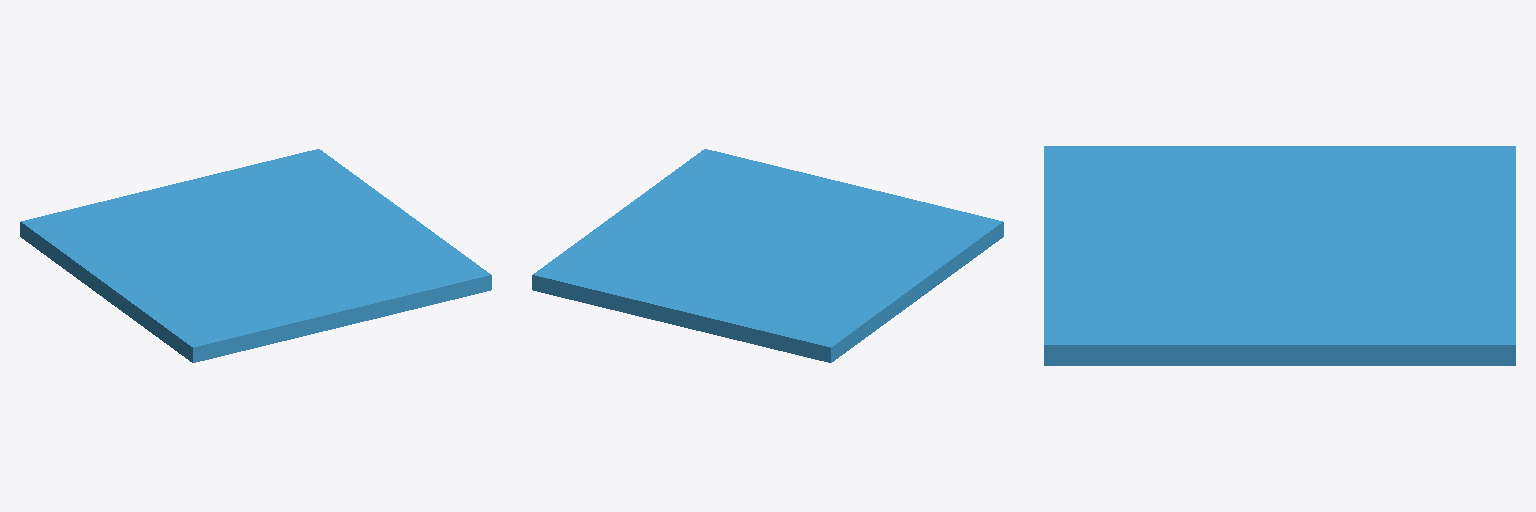
robot.urdf — myworkcell:
<?xml version="1.0" ?>
<!-- =================================================================================== -->
<!-- |    This document was autogenerated by xacro from workcell.xacro                 | -->
<!-- |    EDITING THIS FILE BY HAND IS NOT RECOMMENDED                                 | -->
<!-- =================================================================================== -->
<robot name="myworkcell" xmlns:xacro="http://ros.org/wiki/xacro">
  <!-- measured from model -->
  <!--property name="shoulder_height" value="0.089159" /-->
  <!--property name="shoulder_offset" value="0.13585" /-->
  <!-- shoulder_offset - elbow_offset + wrist_1_length = 0.10915 -->
  <!--property name="upper_arm_length" value="0.42500" /-->
  <!--property name="elbow_offset" value="0.1197" /-->
  <!-- CAD measured -->
  <!--property name="forearm_length" value="0.39225" /-->
  <!--property name="wrist_1_length" value="0.093" /-->
  <!-- CAD measured -->
  <!--property name="wrist_2_length" value="0.09465" /-->
  <!-- In CAD this distance is 0.930, but in the spec it is 0.09465 -->
  <!--property name="wrist_3_length" value="0.0823" /-->
  <!-- manually measured -->

<!-- Create a link name world which describes the most fundamental link in the robot model -->  
<link name="world"/>

<!-- Create a link named table, provide its geometry and collision information -->
  <link name="table">
    <visual>
      <geometry>
        <box size="1.0 1.0 0.05"/>
      </geometry>
    </visual>
    <collision>
      <geometry>
        <box size="1.0 1.0 0.05"/>
      </geometry>
    </collision>
  </link>

<!-- Define a camera frame (used to publish camera information -->
<!--  <link name="camera_frame"/> -->

<!-- Define a base_link for the UR5 robot -->
  <link name="base_link">
    <visual>
      <geometry>
        <mesh filename="file://[local-path]/ros_trial/src/universal_robot/ur_description/meshes/ur5/visual/base.dae"/>
      </geometry>
      <material name="LightGrey">
        <color rgba="0.7 0.7 0.7 1.0"/>
      </material>
    </visual>
    <collision>
      <geometry>
        <mesh filename="file://[local-path]/ros_trial/src/universal_robot/ur_description/meshes/ur5/collision/base.stl"/>
      </geometry>
    </collision>
    <inertial>
      <mass value="4.0"/>
      <origin rpy="0 0 0" xyz="0.0 0.0 0.0"/>
      <inertia ixx="0.00443333156" ixy="0.0" ixz="0.0" iyy="0.00443333156" iyz="0.0" izz="0.0072"/>
    </inertial>
  </link>

<!-- After defining the base link, start defining the joints to the base link and then define each child link -->

  <joint name="shoulder_pan_joint" type="revolute">
    <parent link="base_link"/>
    <child link="shoulder_link"/>
    <origin rpy="0.0 0.0 0.0" xyz="0.0 0.0 0.089159"/>
    <axis xyz="0 0 1"/>
    <limit effort="150.0" lower="-3.14159265359" upper="3.14159265359" velocity="3.15"/>
    <dynamics damping="0.0" friction="0.0"/>
  </joint>
  <link name="shoulder_link">
    <visual>
      <geometry>
        <mesh filename="file://[local-path]/ros_trial/src/universal_robot/ur_description/meshes/ur5/visual/shoulder.dae"/>
      </geometry>
      <material name="LightGrey">
        <color rgba="0.7 0.7 0.7 1.0"/>
      </material>
    </visual>
    <collision>
      <geometry>
        <mesh filename="package://ur_description/meshes/ur5/collision/shoulder.stl"/>
      </geometry>
    </collision>
    <inertial>
      <mass value="3.7"/>
      <origin rpy="0 0 0" xyz="0.0 0.0 0.0"/>
      <inertia ixx="0.010267495893" ixy="0.0" ixz="0.0" iyy="0.010267495893" iyz="0.0" izz="0.00666"/>
    </inertial>
  </link>
  <joint name="shoulder_lift_joint" type="revolute">
    <parent link="shoulder_link"/>
    <child link="upper_arm_link"/>
    <origin rpy="0.0 1.57079632679 0.0" xyz="0.0 0.13585 0.0"/>
    <axis xyz="0 1 0"/>
    <limit effort="150.0" lower="-3.14159265359" upper="3.14159265359" velocity="3.15"/>
    <dynamics damping="0.0" friction="0.0"/>
  </joint>
  <link name="upper_arm_link">
    <visual>
      <geometry>
        <mesh filename="file://[local-path]/ros_trial/src/universal_robot/ur_description/meshes/ur5/visual/upperarm.dae"/>
      </geometry>
      <material name="LightGrey">
        <color rgba="0.7 0.7 0.7 1.0"/>
      </material>
    </visual>
    <collision>
      <geometry>
        <mesh filename="package://ur_description/meshes/ur5/collision/upperarm.stl"/>
      </geometry>
    </collision>
    <inertial>
      <mass value="8.393"/>
      <origin rpy="0 0 0" xyz="0.0 0.0 0.28"/>
      <inertia ixx="0.22689067591" ixy="0.0" ixz="0.0" iyy="0.22689067591" iyz="0.0" izz="0.0151074"/>
    </inertial>
  </link>
  <joint name="elbow_joint" type="revolute">
    <parent link="upper_arm_link"/>
    <child link="forearm_link"/>
    <origin rpy="0.0 0.0 0.0" xyz="0.0 -0.1197 0.425"/>
    <axis xyz="0 1 0"/>
    <limit effort="150.0" lower="-3.14159265359" upper="3.14159265359" velocity="3.15"/>
    <dynamics damping="0.0" friction="0.0"/>
  </joint>
  <link name="forearm_link">
    <visual>
      <geometry>
        <mesh filename="file://[local-path]/ros_trial/src/universal_robot/ur_description/meshes/ur5/visual/forearm.dae"/>
      </geometry>
      <material name="LightGrey">
        <color rgba="0.7 0.7 0.7 1.0"/>
      </material>
    </visual>
    <collision>
      <geometry>
        <mesh filename="package://ur_description/meshes/ur5/collision/forearm.stl"/>
      </geometry>
    </collision>
    <inertial>
      <mass value="2.275"/>
      <origin rpy="0 0 0" xyz="0.0 0.0 0.25"/>
      <inertia ixx="0.049443313556" ixy="0.0" ixz="0.0" iyy="0.049443313556" iyz="0.0" izz="0.004095"/>
    </inertial>
  </link>

 <joint name="wrist_1_joint" type="revolute"> 
<!-- <joint name="wrist_1_joint" type="fixed"> -->
    <parent link="forearm_link"/>
    <child link="wrist_1_link"/>
    <origin rpy="0.0 1.57079632679 0.0" xyz="0.0 0.0 0.39225"/>
    <axis xyz="0 1 0"/>
 <!--   <limit effort="28.0" lower="-3.14159265359" upper="3.14159265359" velocity="3.2"/>  -->
    <limit effort="28.0" lower="-0.75" upper="0.75" velocity="3.2"/>
    <dynamics damping="0.0" friction="0.0"/>
  </joint>
  <link name="wrist_1_link">
    <visual>
      <geometry>
        <mesh filename="file://[local-path]/ros_trial/src/universal_robot/ur_description/meshes/ur5/visual/wrist1.dae"/>
      </geometry>
      <material name="LightGrey">
        <color rgba="0.7 0.7 0.7 1.0"/>
      </material>
    </visual>
    <collision>
      <geometry>
        <mesh filename="package://ur_description/meshes/ur5/collision/wrist1.stl"/>
      </geometry>
    </collision>
    <inertial>
      <mass value="1.219"/>
      <origin rpy="0 0 0" xyz="0.0 0.0 0.0"/>
      <inertia ixx="0.111172755531" ixy="0.0" ixz="0.0" iyy="0.111172755531" iyz="0.0" izz="0.21942"/>
    </inertial>
  </link>

<joint name="wrist_2_joint" type="revolute"> 
<!--  <joint name="wrist_2_joint" type="fixed"> -->
    <parent link="wrist_1_link"/>
    <child link="wrist_2_link"/>
    <origin rpy="0.0 0.0 0.0" xyz="0.0 0.093 0.0"/>
    <axis xyz="0 0 1"/>
    <limit effort="28.0" lower="-3.14159265359" upper="3.14159265359" velocity="3.2"/>
    <dynamics damping="0.0" friction="0.0"/>
  </joint>

  <link name="wrist_2_link">
    <visual>
      <geometry>
        <mesh filename="file://[local-path]/ros_trial/src/universal_robot/ur_description/meshes/ur5/visual/wrist2.dae"/>
      </geometry>
      <material name="LightGrey">
        <color rgba="0.7 0.7 0.7 1.0"/>
      </material>
    </visual>
    <collision>
      <geometry>
        <mesh filename="package://ur_description/meshes/ur5/collision/wrist2.stl"/>
      </geometry>
    </collision>
    <inertial>
      <mass value="1.219"/>
      <origin rpy="0 0 0" xyz="0.0 0.0 0.0"/>
      <inertia ixx="0.111172755531" ixy="0.0" ixz="0.0" iyy="0.111172755531" iyz="0.0" izz="0.21942"/>
    </inertial>
  </link>

<joint name="wrist_3_joint" type="revolute"> 
<!-- <joint name="wrist_3_joint" type="fixed"> -->
    <parent link="wrist_2_link"/>
    <child link="wrist_3_link"/>
    <origin rpy="0.0 0.0 0.0" xyz="0.0 0.0 0.09465"/>
    <axis xyz="0 1 0"/>
<!--    <limit effort="28.0" lower="-3.14159265359" upper="3.14159265359" velocity="3.2"/> -->
    <limit effort="28.0" lower="-0.314" upper="+0.314" velocity="3.2"/>
    <dynamics damping="0.0" friction="0.0"/>
  </joint>
  <link name="wrist_3_link">
    <visual>
      <geometry>
        <mesh filename="file://[local-path]/ros_trial/src/universal_robot/ur_description/meshes/ur5/visual/wrist3.dae"/>
      </geometry>
      <material name="LightGrey">
        <color rgba="0.7 0.7 0.7 1.0"/>
      </material>
    </visual>
    <collision>
      <geometry>
        <mesh filename="package://ur_description/meshes/ur5/collision/wrist3.stl"/>
      </geometry>
    </collision>
    <inertial>
      <mass value="0.1879"/>
      <origin rpy="0 0 0" xyz="0.0 0.0 0.0"/>
      <inertia ixx="0.0171364731454" ixy="0.0" ixz="0.0" iyy="0.0171364731454" iyz="0.0" izz="0.033822"/>
    </inertial>
  </link>
  <joint name="ee_fixed_joint" type="fixed">
    <parent link="wrist_3_link"/>
    <child link="ee_link"/>
    <origin rpy="0.0 0.0 1.57079632679" xyz="0.0 0.0823 0.0"/>
  </joint>
  <link name="ee_link">
    <collision>
      <geometry>
        <box size="0.01 0.01 0.01"/>
      </geometry>
      <origin rpy="0 0 0" xyz="-0.01 0 0"/>
    </collision>
  </link>

  <transmission name="shoulder_pan_trans">
    <type>transmission_interface/SimpleTransmission</type>
    <joint name="shoulder_pan_joint">
      <hardwareInterface>hardware_interface/PositionJointInterface</hardwareInterface>
    </joint>
    <actuator name="shoulder_pan_motor">
      <mechanicalReduction>1</mechanicalReduction>
    </actuator>
  </transmission>
  <transmission name="shoulder_lift_trans">
    <type>transmission_interface/SimpleTransmission</type>
    <joint name="shoulder_lift_joint">
      <hardwareInterface>hardware_interface/PositionJointInterface</hardwareInterface>
    </joint>
    <actuator name="shoulder_lift_motor">
      <mechanicalReduction>1</mechanicalReduction>
    </actuator>
  </transmission>
  <transmission name="elbow_trans">
    <type>transmission_interface/SimpleTransmission</type>
    <joint name="elbow_joint">
      <hardwareInterface>hardware_interface/PositionJointInterface</hardwareInterface>
    </joint>
    <actuator name="elbow_motor">
      <mechanicalReduction>1</mechanicalReduction>
    </actuator>
  </transmission>

  <transmission name="wrist_1_trans">
    <type>transmission_interface/SimpleTransmission</type>
    <joint name="wrist_1_joint">
      <hardwareInterface>hardware_interface/PositionJointInterface</hardwareInterface>
    </joint>
    <actuator name="wrist_1_motor">
      <mechanicalReduction>1</mechanicalReduction>
    </actuator>
  </transmission>
  <transmission name="wrist_2_trans">
    <type>transmission_interface/SimpleTransmission</type>
    <joint name="wrist_2_joint">
      <hardwareInterface>hardware_interface/PositionJointInterface</hardwareInterface>
    </joint>
    <actuator name="wrist_2_motor">
      <mechanicalReduction>1</mechanicalReduction>
    </actuator>
  </transmission>
  <transmission name="wrist_3_trans">
    <type>transmission_interface/SimpleTransmission</type>
    <joint name="wrist_3_joint">
      <hardwareInterface>hardware_interface/PositionJointInterface</hardwareInterface>
    </joint>
    <actuator name="wrist_3_motor">
      <mechanicalReduction>1</mechanicalReduction>
    </actuator>
  </transmission>

  <!-- nothing to do here at the moment -->
  <!-- ROS base_link to UR 'Base' Coordinates transform -->

  <link name="base"/>
  <joint name="base_link-base_fixed_joint" type="fixed">
    <!-- NOTE: this rotation is only needed as long as base_link itself is
                 not corrected wrt the real robot (ie: rotated over 180
                 degrees)
      -->
    <origin rpy="0 0 -3.14159265359" xyz="0 0 0"/>
    <parent link="base_link"/>
    <child link="base"/>
  </joint>
  <!-- Frame coincident with all-zeros TCP on UR controller -->
  <link name="tool0"/>
  <joint name="wrist_3_link-tool0_fixed_joint" type="fixed">
    <origin rpy="-1.57079632679 0 0" xyz="0 0.0823 0"/>
    <parent link="wrist_3_link"/>
    <child link="tool0"/>
  </joint>

<joint name="base_camera_joint" type="fixed">
    <origin rpy="-1.57079632679 0 0" xyz="0 0 0"/>
    <parent link="tool0" />
    <origin xyz="0 0 0" rpy="0 0 0" />
    <child link="camera_link" />
  </joint>

  <link name="camera_link">
    <inertial>
      <mass value="0.01" />
      <origin xyz="0 0 0" />
      <inertia ixx="0.001" ixy="0.0" ixz="0.0"
        iyy="0.001" iyz="0.0"
        izz="0.001" />
    </inertial>
    <visual>
 <origin xyz=" 0 -0.03 0 " rpy="0 0 0" />  
      <geometry>
        <mesh filename= "file://[local-path]/ros_trial/src/industrial_training/exercises/3.3/src/myworkcell_support/meshes/sensors/kinect.dae"/>
      </geometry>
    </visual>
    <collision>
 <origin xyz="0.0 -0.03 0.0" rpy="0 0 0" />    
      <geometry>
        <box size="0.0730 .2760 0.0720"/>
      </geometry>
    </collision>

  </link>
  
  <joint name="camera_depth_joint" type="fixed">
   <origin xyz="0 -0.012 0" rpy="0 0 -1.5707" />  
 <!--   <origin xyz="0 0.011 0" rpy="0 0 0" />  -->
    <parent link="camera_link" />
    <child link="camera_depth_frame" />
  </joint>

  <link name="camera_depth_frame">
    <inertial>
      <mass value="0.01" />
      <origin xyz="0 0 0" />
      <inertia ixx="0.001" ixy="0.0" ixz="0.0"
        iyy="0.001" iyz="0.0"
        izz="0.001" />
    </inertial>
  </link>

  <joint name="camera_depth_optical_joint" type="fixed">
    <origin xyz="0 0 0" rpy="-1.5707 0 -1.5707" />
    <parent link="camera_depth_frame" />
    <child link="camera_depth_optical_frame" />
  </joint>

  <link name="camera_depth_optical_frame">
    <inertial>
      <mass value="0.001" />
      <origin xyz="0 0 0" />
      <inertia ixx="0.0001" ixy="0.0" ixz="0.0"
        iyy="0.0001" iyz="0.0"
        izz="0.0001" />
    </inertial>
  </link>

  <joint name="camera_rgb_joint" type="fixed">
   <origin xyz="0 -0.012 0" rpy="0 0 -1.5707" />  
<!--    <origin xyz="0 -0.012 0" rpy="0 0 0" /> -->
    <parent link="camera_link" />
    <child link="camera_rgb_frame" />
  </joint>

  <link name="camera_rgb_frame">
    <inertial>
      <mass value="0.001" />
      <origin xyz="0 0 0" />
      <inertia ixx="0.0001" ixy="0.0" ixz="0.0"
        iyy="0.0001" iyz="0.0"
        izz="0.0001" />
    </inertial>
  </link>

  <joint name="camera_rgb_optical_joint" type="fixed">
    <origin xyz="0 0 0" rpy="-1.5707 0 -1.5707" />
    <parent link="camera_rgb_frame" />
    <child link="camera_rgb_optical_frame" />
  </joint>

  <link name="camera_rgb_optical_frame">
    <inertial>
      <mass value="0.001" />
      <origin xyz="0 0 0" />
      <inertia ixx="0.0001" ixy="0.0" ixz="0.0"
        iyy="0.0001" iyz="0.0"
        izz="0.0001" />
    </inertial>
  </link>


<gazebo reference="camera_depth_frame">
  <sensor type="depth" name="camera">
    <always_on>true</always_on>
    <update_rate>20.0</update_rate>
    <camera>
<!--(60 *pi)/180  --> 
      <horizontal_fov>1.0471975512</horizontal_fov>
      <image>
        <format>B8G8R8</format>
        <width>640</width>
        <height>480</height>
      </image>
      <clip>
        <near>0.05</near>
        <far>8.0</far>
      </clip>
    </camera>
    <plugin name="kinect_camera_controller" filename="libgazebo_ros_openni_kinect.so">
      <cameraName>camera</cameraName>
      <alwaysOn>true</alwaysOn>
      <updateRate>10</updateRate>
      <imageTopicName>color/image_raw</imageTopicName>
      <depthImageTopicName>depth/image_raw</depthImageTopicName>
      <pointCloudTopicName>depth/points</pointCloudTopicName>
      <cameraInfoTopicName>color/camera_info</cameraInfoTopicName>
      <depthImageCameraInfoTopicName>depth/camera_info</depthImageCameraInfoTopicName>
      <frameName>camera_depth_optical_frame</frameName>
      <baseline>0.1</baseline>
      <distortion_k1>0.0</distortion_k1>
      <distortion_k2>0.0</distortion_k2>
      <distortion_k3>0.0</distortion_k3>
      <distortion_t1>0.0</distortion_t1>
      <distortion_t2>0.0</distortion_t2>
      <pointCloudCutoff>0.4</pointCloudCutoff>
    </plugin>
  </sensor>
</gazebo>

<gazebo>
  <plugin name="gazebo_ros_control" filename="libgazebo_ros_control.so">
<!--    <robotNamespace>/myworkcell</robotNamespace>  -->
  </plugin>
</gazebo>


  <!-- All the joints wrt to the world and external elements are defined in the end -->
  <joint name="world_to_table" type="fixed">
    <parent link="world"/>
    <child link="table"/>
    <origin rpy="0 0 0" xyz="0 0 0.5"/>
  </joint>

<!-- 
  <joint name="world_to_camera" type="fixed">
    <parent link="world"/>
    <child link="camera_frame"/>
    <origin rpy="0 3.14159 0" xyz="-0.25 -0.5 1.25"/>
  </joint>

-->

  <joint name="table_to_robot" type="fixed">
    <parent link="table"/>
    <child link="base_link"/>
    <origin rpy="0 0 0" xyz="0 0 0"/>
  </joint>
</robot>

--- Facts derived from the render (not from the file) ---
3 views of the same robot in one strip: view 1: azimuth 30°, elevation 25°; view 2: azimuth 150°, elevation 25°; view 3: azimuth 270°, elevation 25° (orthographic).
Model myworkcell with 17 links and 16 joints (6 revolute, 10 fixed), rooted at world, posed every joint at zero.
Links seen in each view (by area): view 1: table; view 2: table; view 3: table.
Link boxes in pixels (<box>): table: <box>20,149,491,362</box>; table: <box>532,149,1003,362</box>; table: <box>1044,146,1515,365</box>.
Size in the robot's own frame: 1 by 1 by 0.05 metres.
Geometry: only primitive shapes (box / cylinder / sphere) drawn; not drawn: 8 mesh visuals (reference in a form the renderer does not follow).